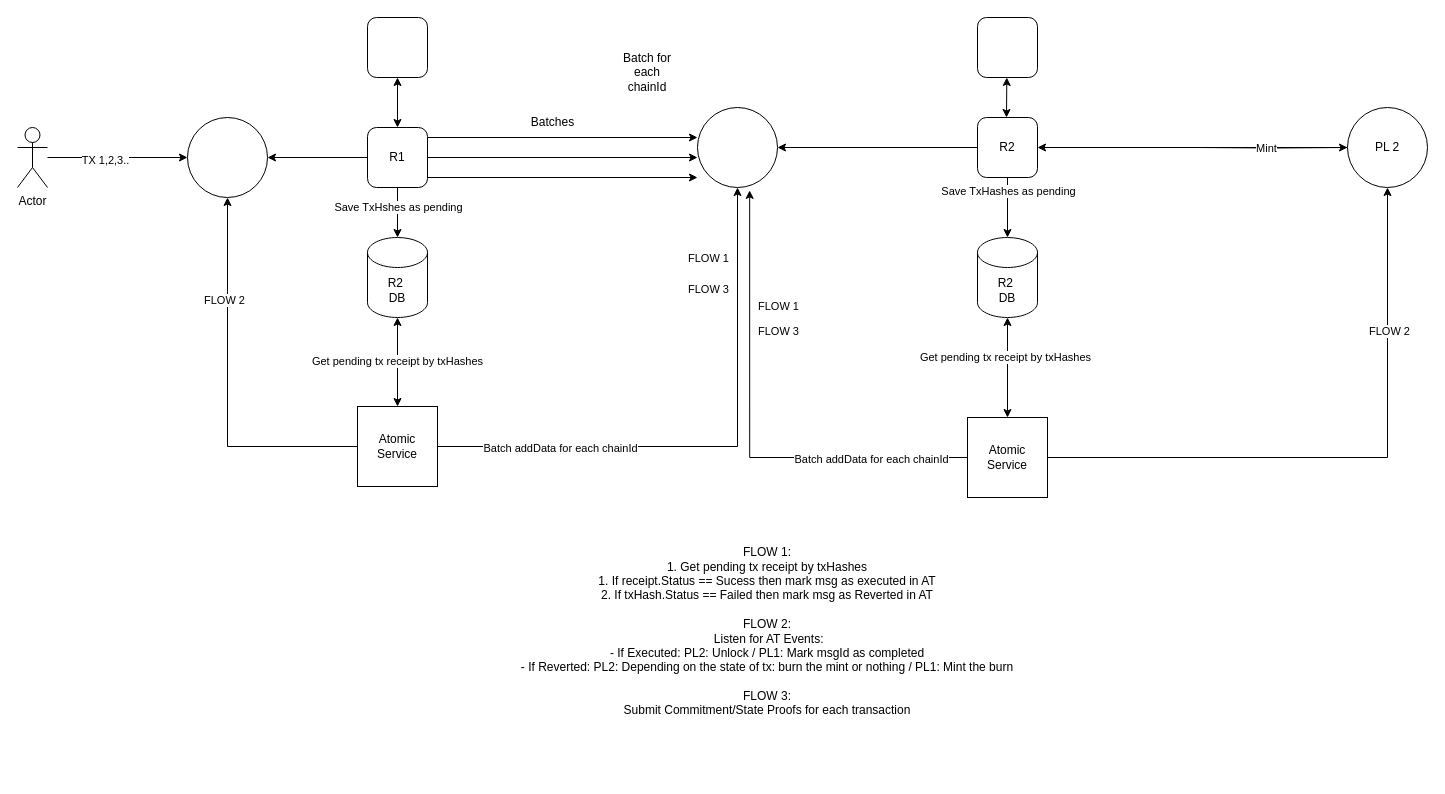
The diagram is 1445 pixels wide and 794 high, and some of its shapes have lost their labels. The shapes that lost their labels are listed below. From the top down, each one's centre as x and y in pixels, then its label:
At (397,47): "Encrypt".
At (1007,47): "Decrypt".
At (227,157): "PL 1".
At (737,147): "CC".
